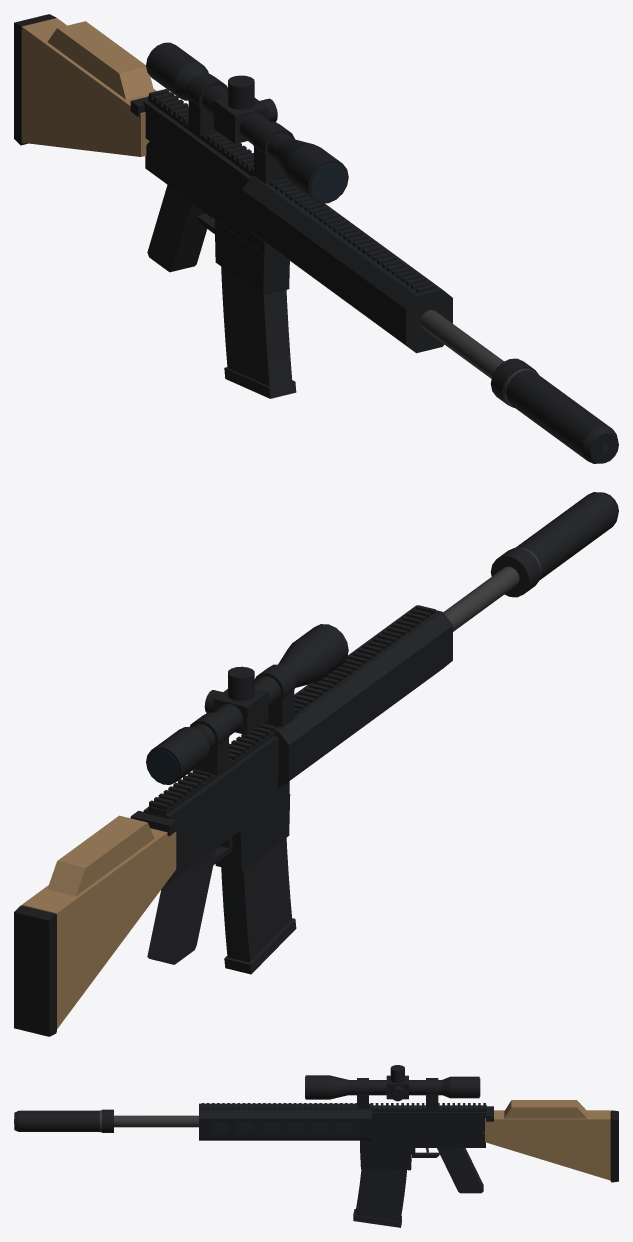
3 views of the same model, one above another, from view 1: azimuth 30°, elevation 25°; view 2: azimuth 150°, elevation 25°; view 3: azimuth 270°, elevation 25° (orthographic). The views are drawn at different scales.
Parts seen in each view (by area): view 1: m110-sd; view 2: m110-sd; view 3: m110-sd.
Boxes of the visible parts, x1,y1,x2,y2 form: m110-sd: (14, 14, 618, 463); m110-sd: (14, 492, 618, 1036); m110-sd: (14, 1065, 618, 1227).
Bounding box in the file's own units: 0.064 × 0.3373 × 1.18.
Materials: 1 (1 with a texture image).
